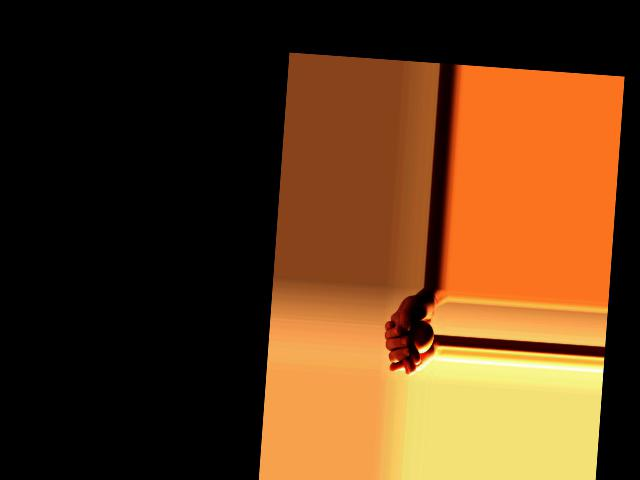egg: (410, 319, 434, 354)
